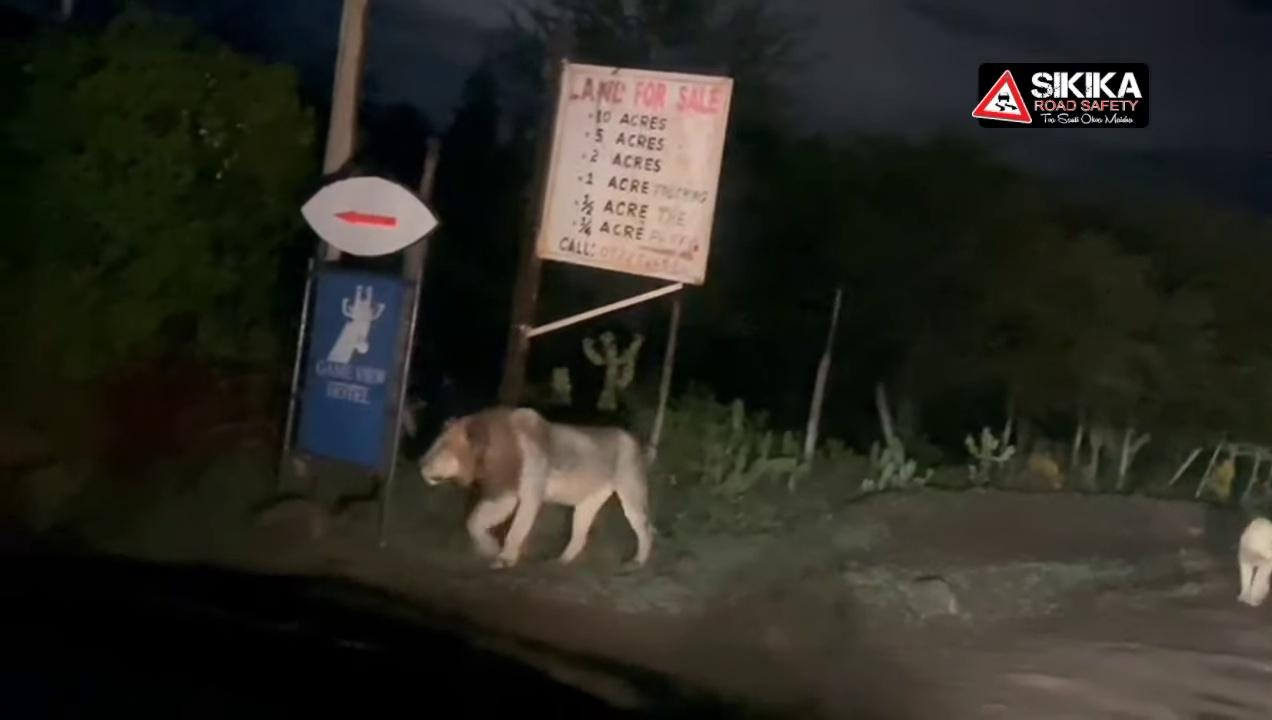lions: (408, 361, 660, 585)
